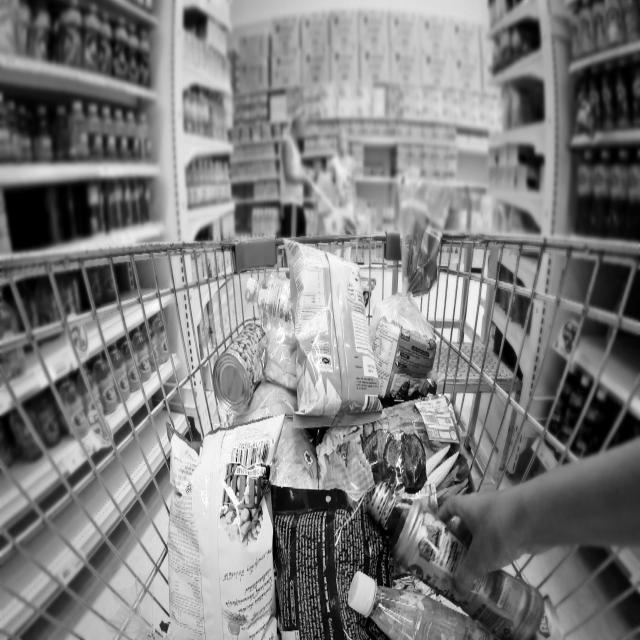bread: (369, 198, 456, 418)
oil: (246, 272, 297, 328)
